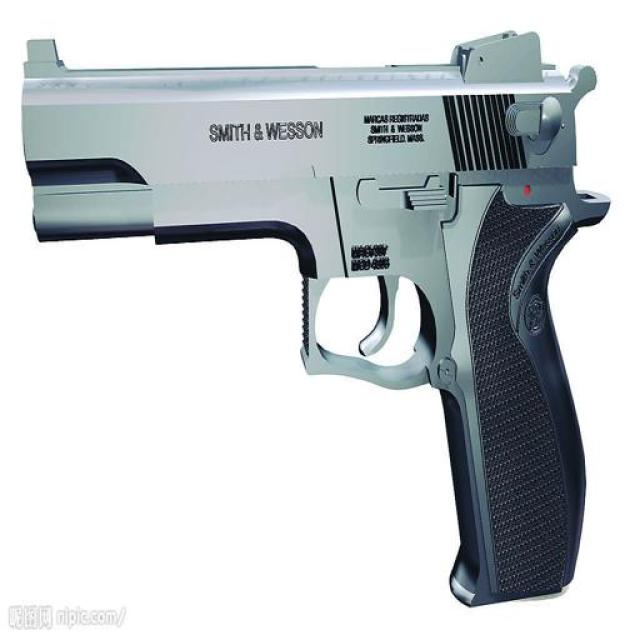pistol: (22, 34, 611, 609)
